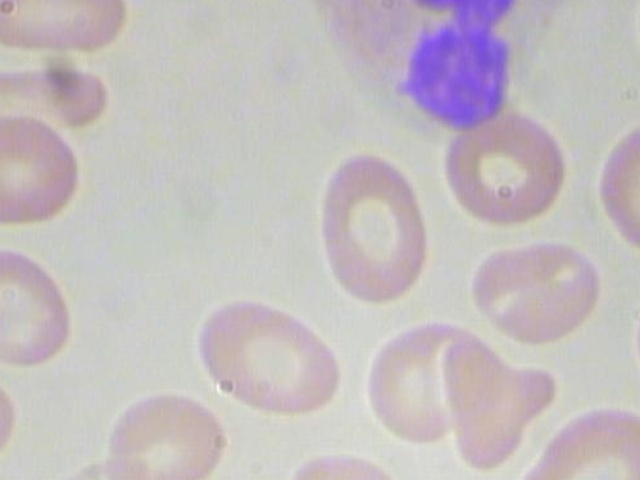RBC: (181, 290, 360, 424), (359, 308, 493, 448), (314, 150, 429, 311), (432, 110, 575, 226), (467, 233, 603, 350), (96, 365, 230, 480), (0, 230, 84, 372), (0, 100, 84, 240), (510, 402, 640, 480), (0, 0, 131, 57), (588, 112, 640, 255), (282, 446, 417, 480), (618, 270, 640, 405), (624, 0, 640, 98)
WBC: (297, 0, 590, 139)
